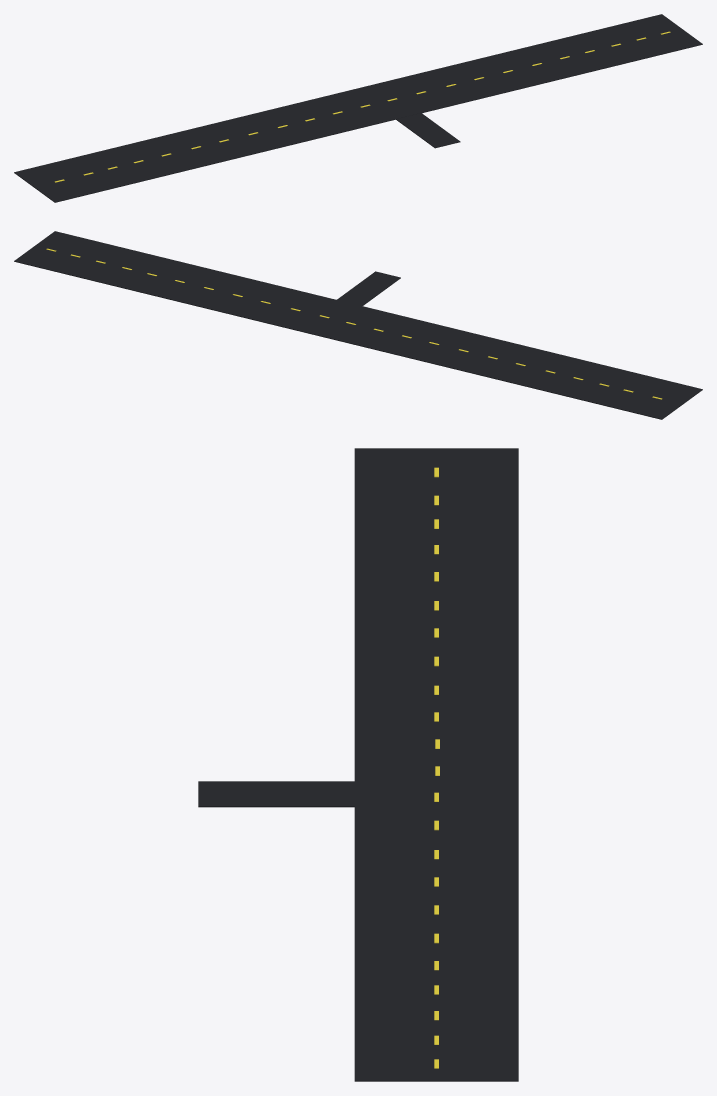
Rendered from calle.obj.
3 views of the same model, one above another, from view 1: azimuth 30°, elevation 25°; view 2: azimuth 150°, elevation 25°; view 3: azimuth 270°, elevation 25° (orthographic). The views are drawn at different scales.
Visible parts, largest first — view 1: pCube31, pCube30; view 2: pCube31, pCube30; view 3: pCube31, pCube30.
Part boxes in pixels (<box>): pCube31: <box>14,14,702,202</box>; pCube30: <box>396,113,460,148</box>; pCube31: <box>14,231,702,419</box>; pCube30: <box>337,271,400,305</box>; pCube31: <box>354,448,518,1081</box>; pCube30: <box>198,781,354,807</box>.
Bounding box in the file's own units: 69.71 × 0.0989 × 14.92.
3 materials, 3 textured.
